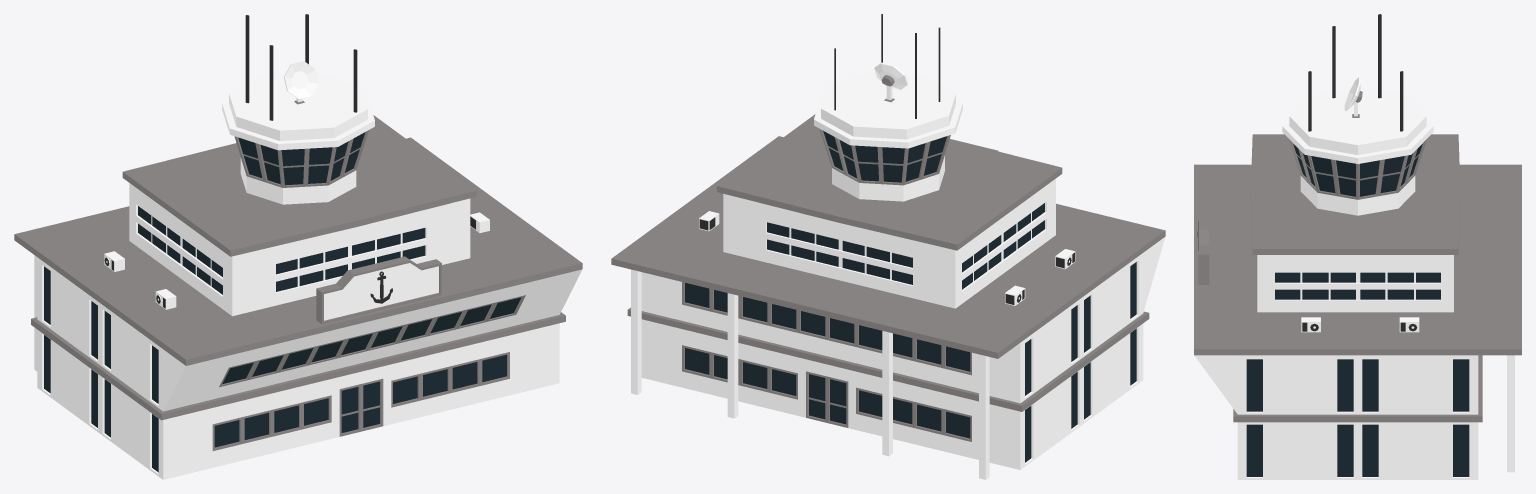
The model's file is building-port-sea.glb.
The picture shows the model from 3 angles, left to right: view 1: azimuth 30°, elevation 25°; view 2: azimuth 150°, elevation 25°; view 3: azimuth 270°, elevation 25°; orthographic projection. The views are drawn at different scales.
Visible parts, largest first — view 1: building-port-sea; view 2: building-port-sea; view 3: building-port-sea.
Boxes of the visible parts, <box> form: building-port-sea: <box>14,14,582,479</box>; building-port-sea: <box>611,14,1165,479</box>; building-port-sea: <box>1194,14,1521,479</box>.
Size of the model in its own units: 27.2 by 23.87 by 20.
Materials: 1 (1 with a texture image).
